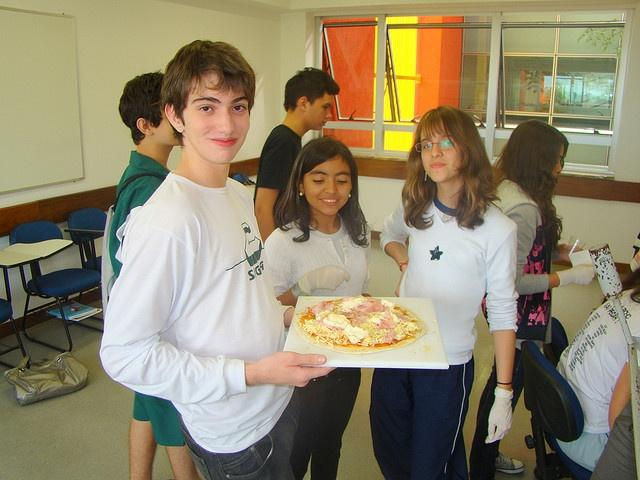Kursi: (8, 218, 102, 351)
Whiteboard: (0, 4, 86, 194)
